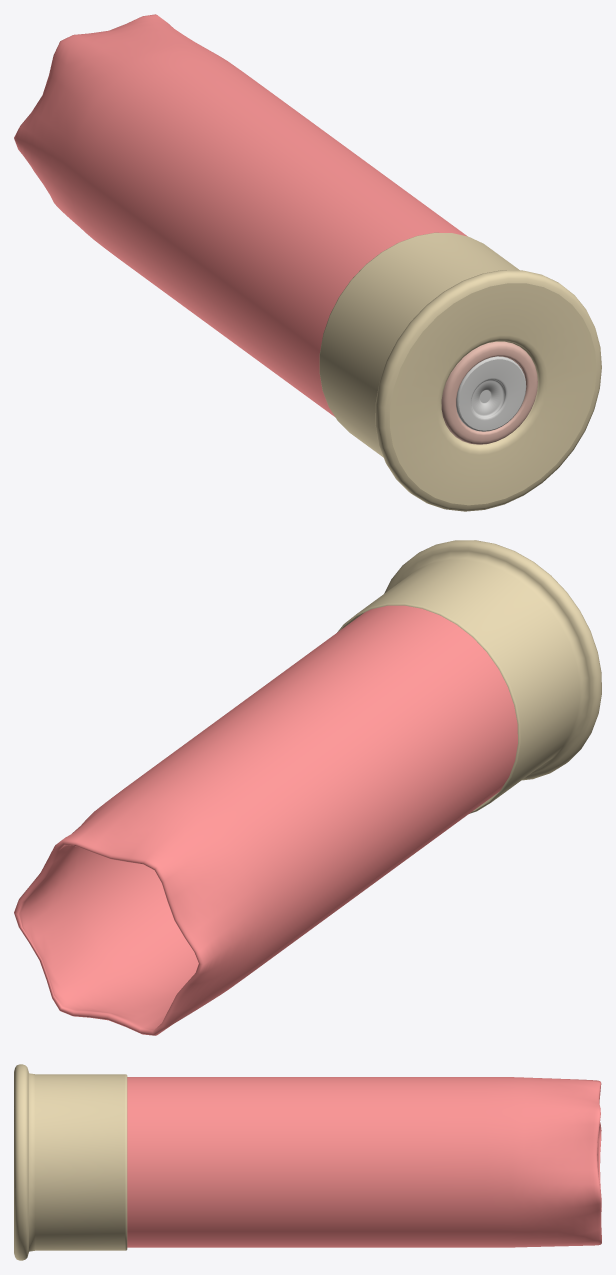
Rendered from ShotgunBullet.fbx.
3 renders of one model, top to bottom at view 1: azimuth 30°, elevation 25°; view 2: azimuth 150°, elevation 25°; view 3: azimuth 270°, elevation 25°, orthographic. The views are drawn at different scales.
Parts seen in each view (by area): view 1: shotgun shell; view 2: shotgun shell; view 3: shotgun shell.
Part boxes in pixels (x1,y1,x2,y2): shotgun shell: (14, 14, 601, 511); shotgun shell: (14, 540, 601, 1035); shotgun shell: (14, 1064, 601, 1260).
Bounding box in the file's own units: 0.0156 × 0.0157 × 0.0469.
